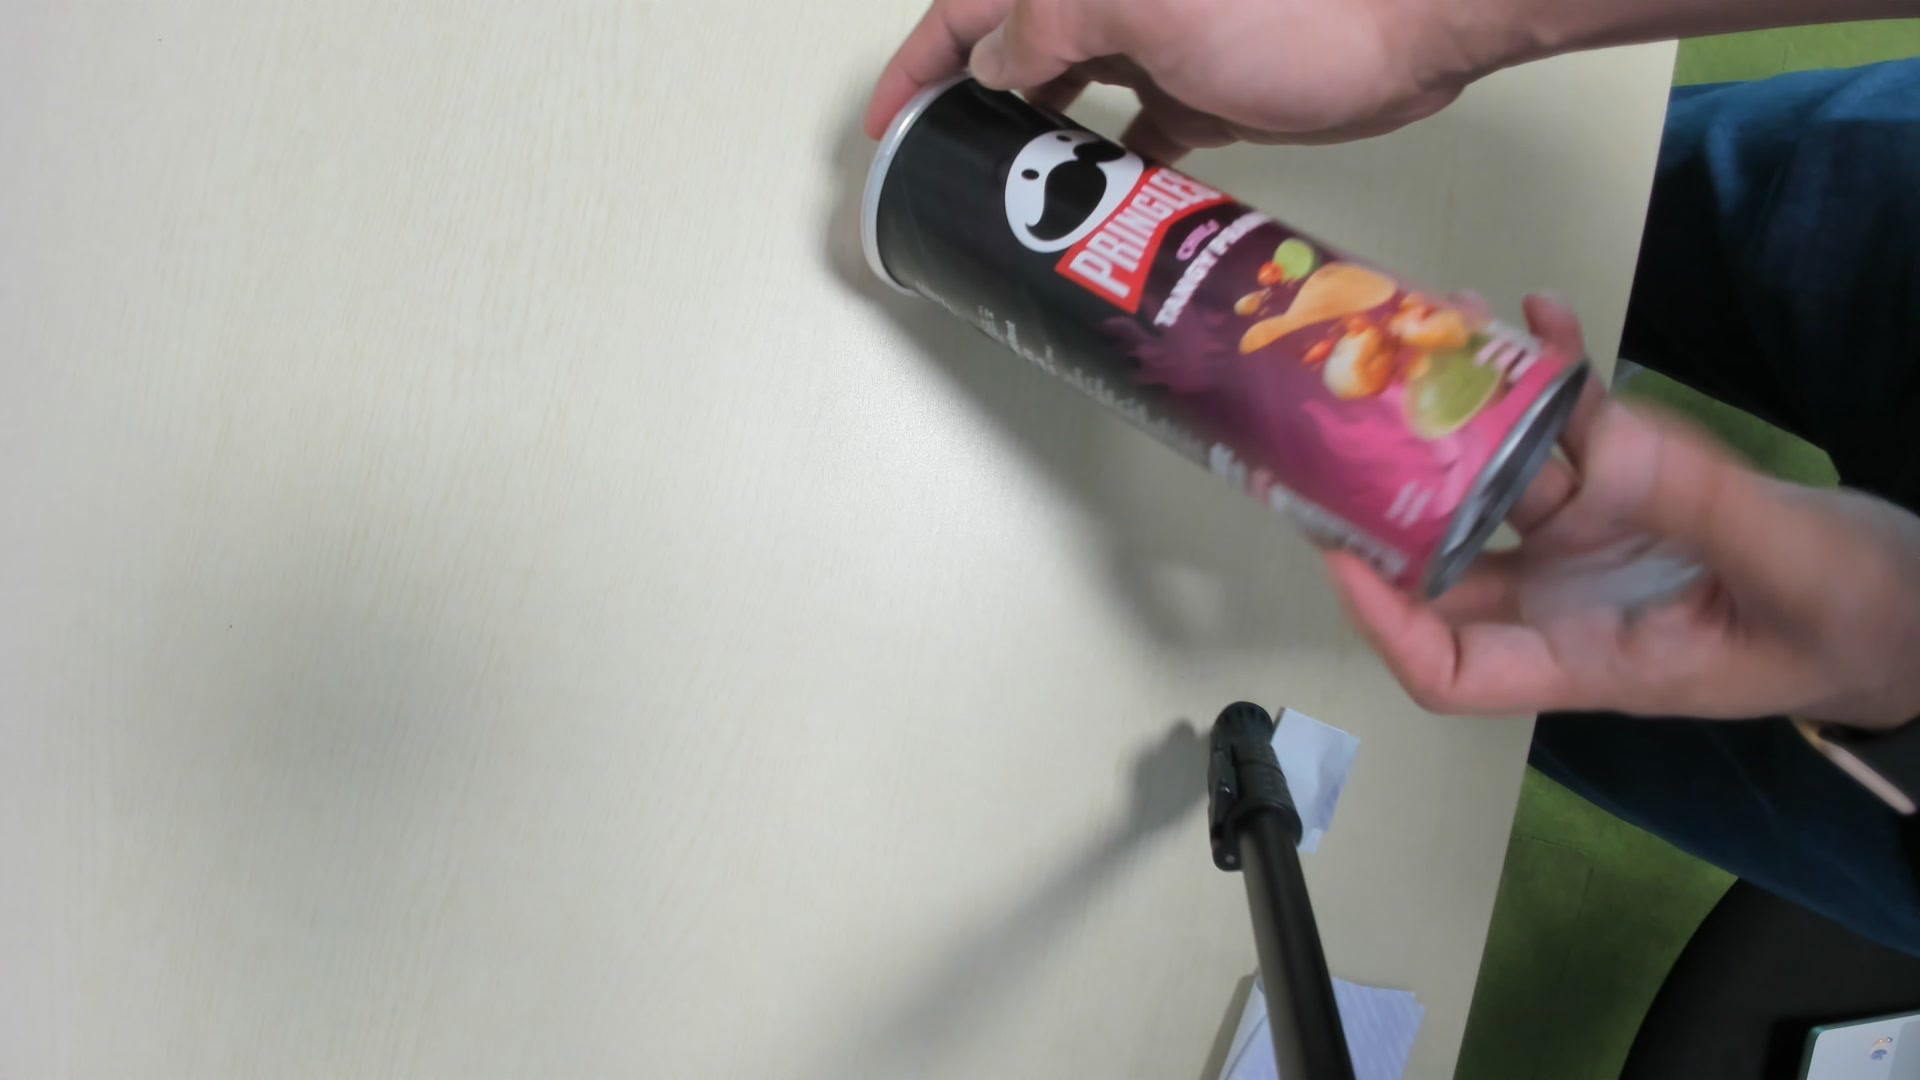PotatoChipsKeropok_0-99g_NonHalal_NonHealthy: (856, 82, 1596, 612)
